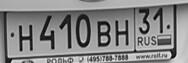license-plateSW: (6, 5, 175, 57)
